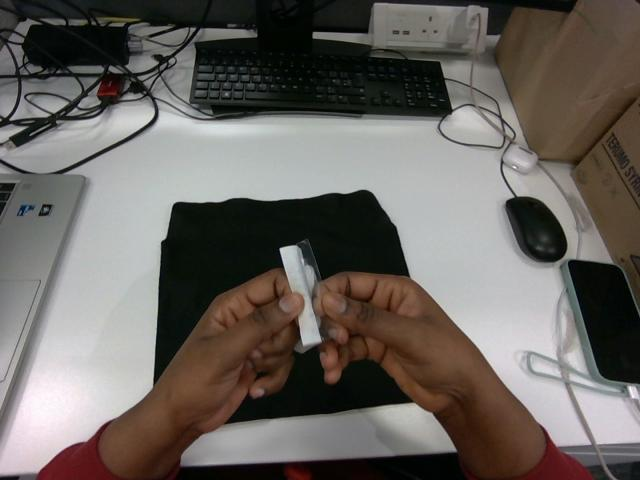gauze: (279, 240, 322, 352)
